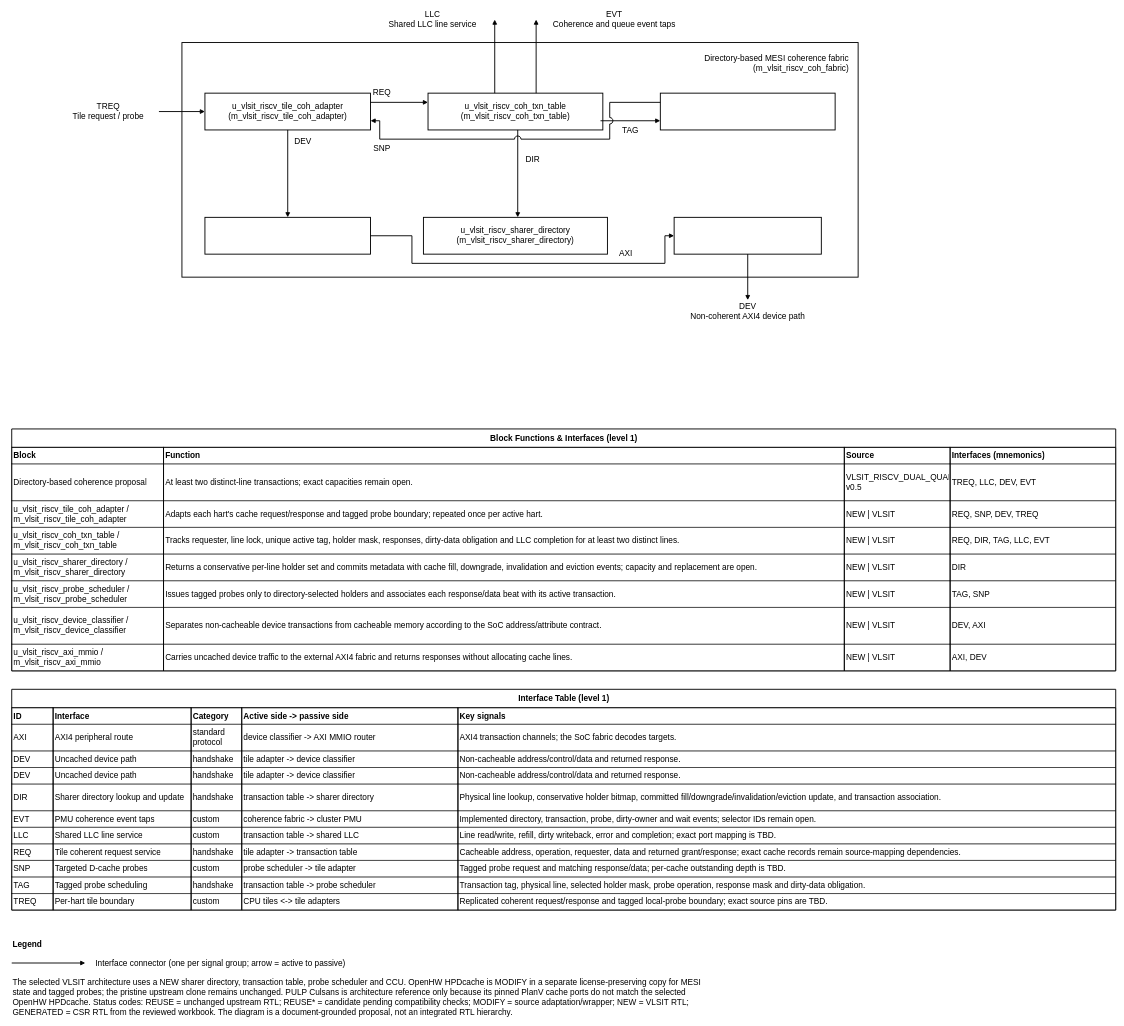
Some shapes in this 1124 by 1026 pixel diagram are drawn without their labels. Each missing label, with the centre of its shape:
u_vlsit_riscv_axi_mmio (m_vlsit_riscv_axi_mmio): [747,235]
u_vlsit_riscv_device_classifier (m_vlsit_riscv_device_classifier): [287,235]
u_vlsit_riscv_probe_scheduler (m_vlsit_riscv_probe_scheduler): [747,111]
